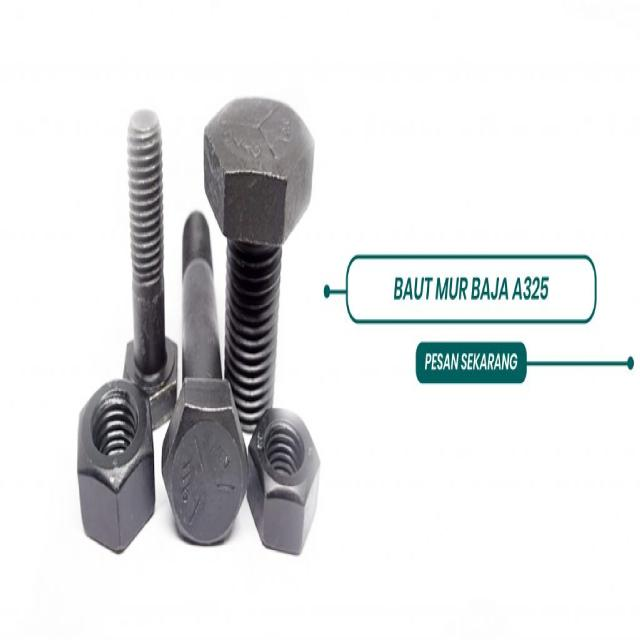Logam: (208, 74, 302, 393), (165, 208, 252, 548), (116, 97, 170, 396), (67, 371, 146, 539), (240, 402, 317, 548)
